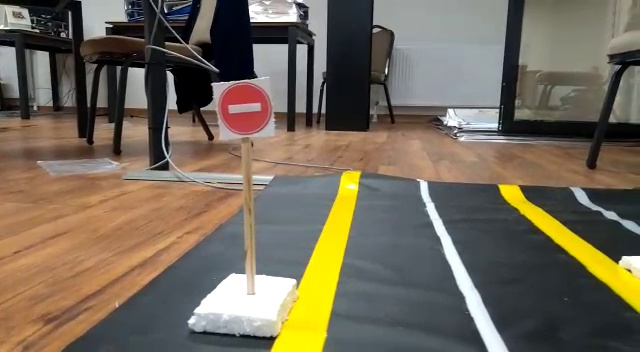girisi_olmayan_yol: (213, 79, 276, 133)
